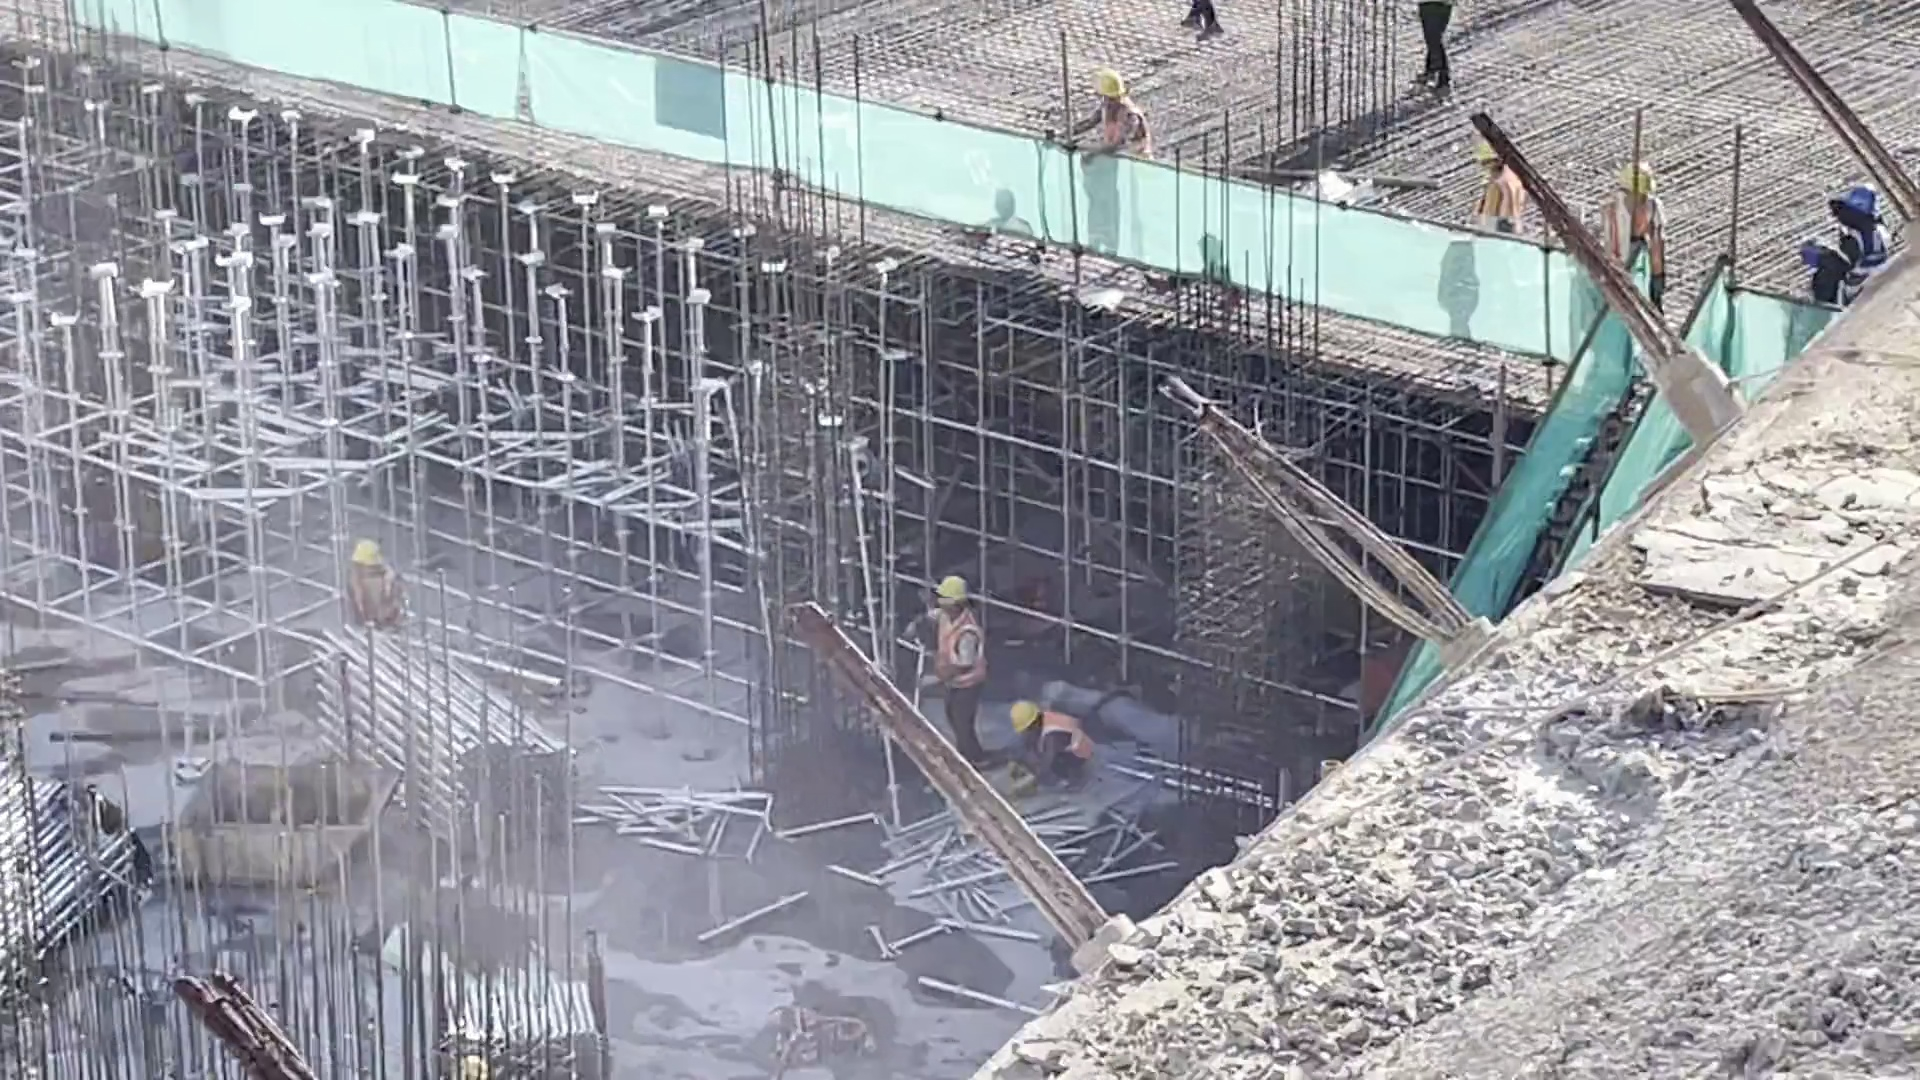helmet: (1815, 188, 1882, 226), (1616, 167, 1661, 199), (1080, 71, 1123, 99), (1012, 698, 1043, 730), (463, 1053, 494, 1080), (354, 541, 384, 567), (938, 577, 967, 604), (1478, 145, 1507, 165)
person: (912, 570, 991, 768), (1793, 183, 1899, 308), (1604, 161, 1673, 335), (1003, 693, 1095, 795), (1062, 68, 1153, 168), (1465, 148, 1534, 260), (338, 542, 411, 643)
vest: (1612, 208, 1678, 292), (927, 625, 994, 704), (1831, 240, 1893, 304), (351, 577, 405, 652), (1104, 108, 1167, 164), (1481, 187, 1540, 241), (1043, 715, 1094, 767)
